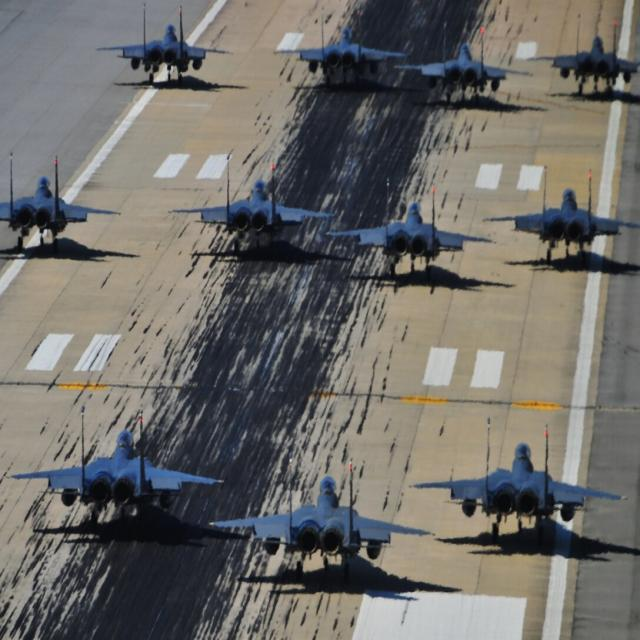MIL_Plane: (208, 456, 436, 582), (408, 416, 628, 546), (8, 405, 224, 526), (325, 176, 497, 279), (168, 158, 336, 253), (482, 165, 640, 265), (1, 151, 121, 253), (272, 7, 410, 87), (95, 6, 234, 82), (524, 14, 640, 96), (394, 30, 534, 97)
